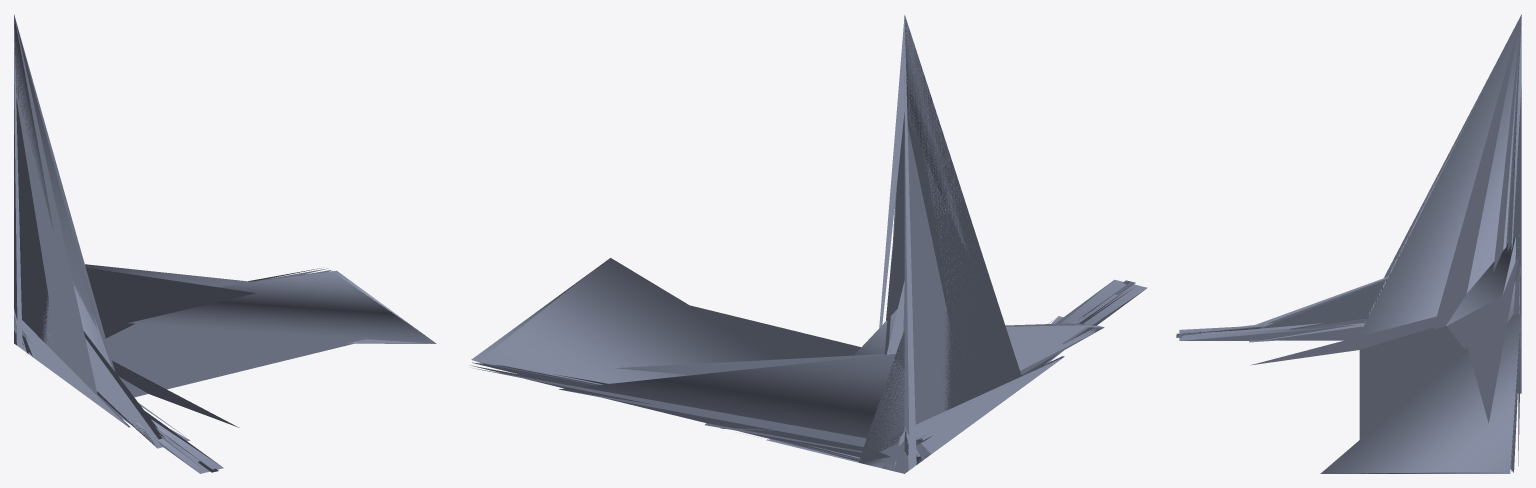
3 views of the same model, side by side, from view 1: azimuth 30°, elevation 25°; view 2: azimuth 150°, elevation 25°; view 3: azimuth 270°, elevation 25° (orthographic). The views are drawn at different scales.
Parts seen in each view (by area): view 1: Building_10B, Logo_10B; view 2: Building_10B, Logo_10B; view 3: Building_10B, Logo_10B.
Boxes of the visible parts, bbox=[...] form: Building_10B: bbox=[14, 14, 436, 472]; Logo_10B: bbox=[100, 397, 223, 473]; Building_10B: bbox=[470, 15, 1137, 473]; Logo_10B: bbox=[1021, 279, 1147, 374]; Building_10B: bbox=[1176, 14, 1521, 473]; Logo_10B: bbox=[1179, 325, 1365, 340].
Size of the model in its own units: 9555414 by 9500009 by 9500009.
